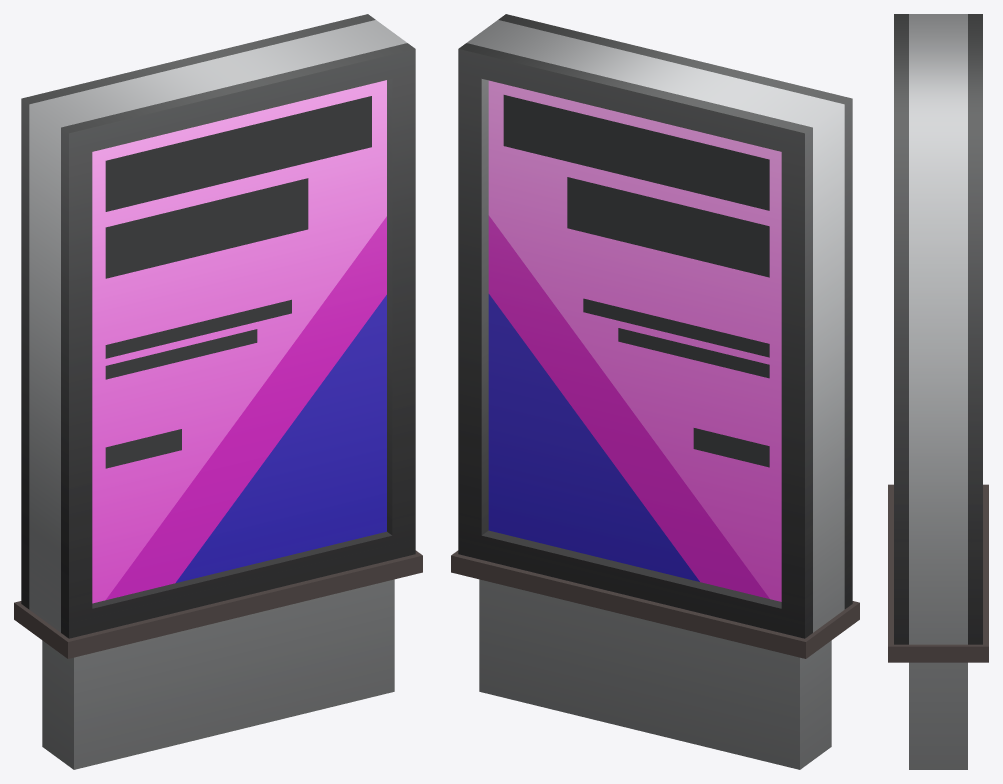
Rendered from Billboard_03.glb.
3 renders of one model, left to right at view 1: azimuth 30°, elevation 25°; view 2: azimuth 150°, elevation 25°; view 3: azimuth 270°, elevation 25°, orthographic. The views are drawn at different scales.
Parts seen in each view (by area): view 1: Billboard_03; view 2: Billboard_03; view 3: Billboard_03.
Part boxes in pixels (left/top/right/bottom): Billboard_03: left=14, top=14, right=422, bottom=769; Billboard_03: left=451, top=14, right=859, bottom=769; Billboard_03: left=888, top=14, right=988, bottom=769.
Size of the model in its own units: 1.19 by 2.06 by 0.3123.
1 material, 1 textured.
